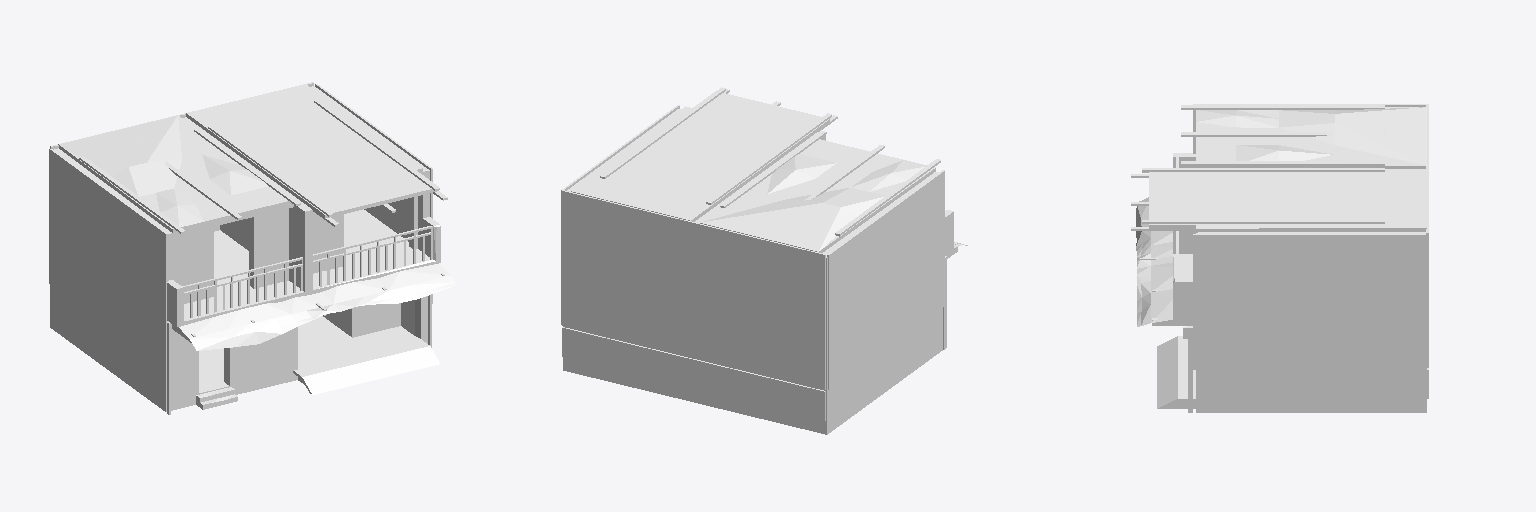
The model's file is BuildingK.obj.
3 renders of one model, left to right at view 1: azimuth 30°, elevation 25°; view 2: azimuth 150°, elevation 25°; view 3: azimuth 270°, elevation 25°, orthographic.
Parts seen in each view (by area): view 1: BuildingK; view 2: BuildingK; view 3: BuildingK.
Boxes of the visible parts, <box> form: BuildingK: <box>49,82,456,414</box>; BuildingK: <box>561,87,967,434</box>; BuildingK: <box>1131,104,1428,412</box>.
Size of the model in its own units: 335 by 223 by 323.